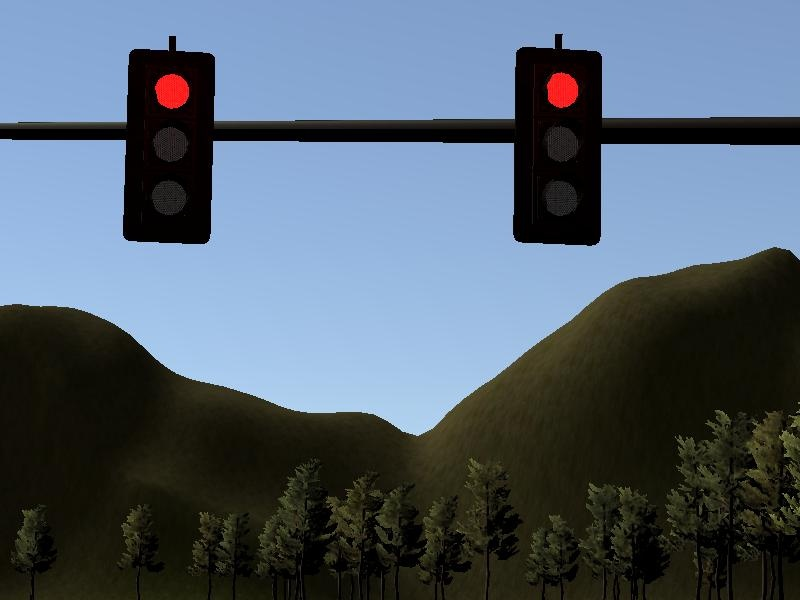red: (511, 39, 609, 251), (123, 44, 215, 256)
